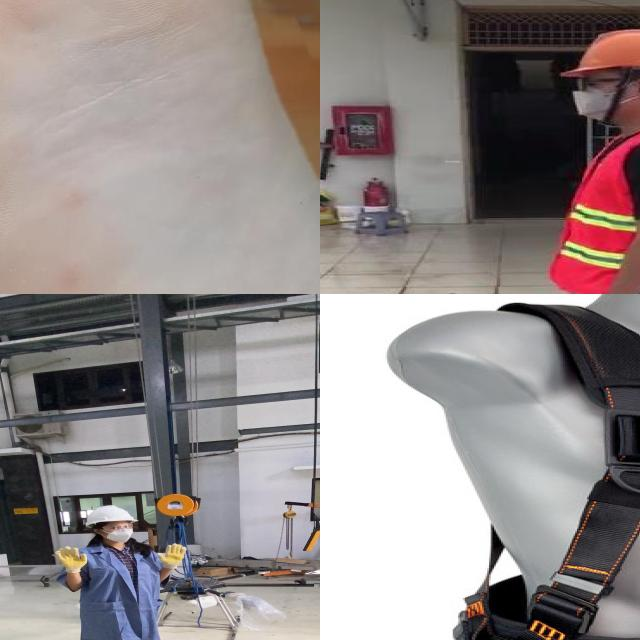Barefoots: (0, 0, 320, 294)
Harness: (407, 301, 640, 640)
face_mask: (565, 73, 640, 122), (100, 522, 134, 544)
glasses: (99, 522, 137, 532)
hand_glove: (51, 545, 90, 571), (155, 542, 189, 566)
head_helmet: (562, 27, 640, 80), (83, 503, 135, 526)
person: (530, 23, 640, 294), (50, 501, 190, 640)
vest: (553, 125, 640, 294)
